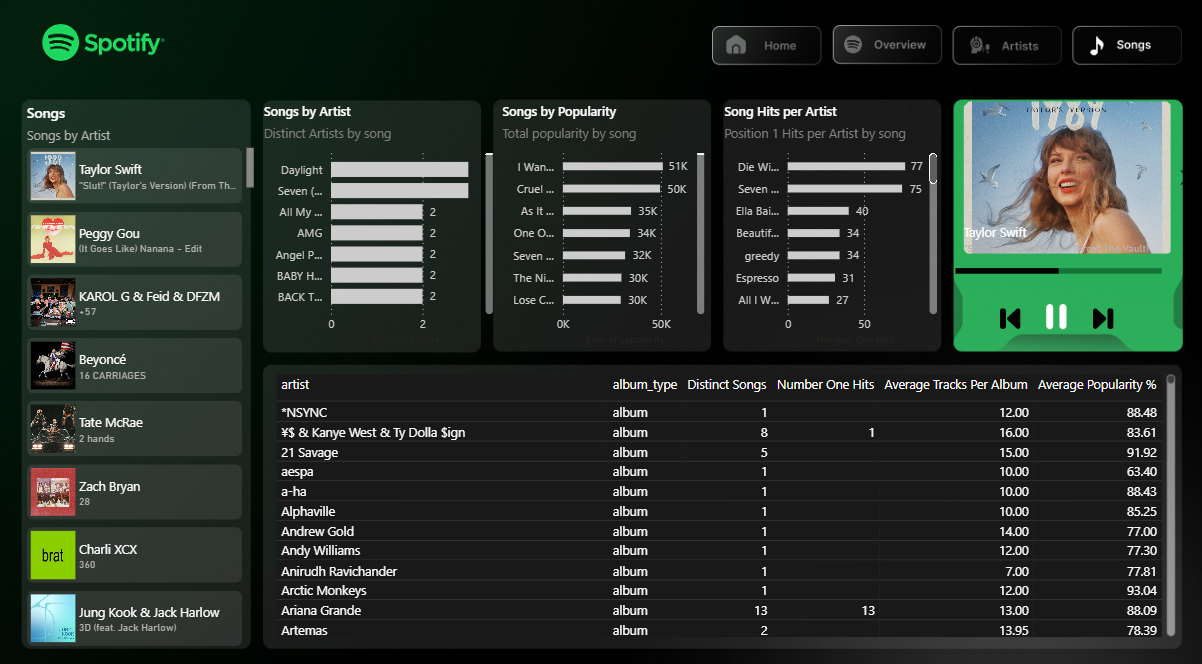

The dashboard page shown, as its layout file describes it:
{"tool":"powerbi","page":{"name":"Songs","canvas":[1280,720],"ordinal":3},"visuals":[{"type":"actionButton","box":[756.1,33.9,114.5,38.2],"z":0},{"type":"actionButton","box":[884.9,33.9,111.3,38.2],"z":1000},{"type":"actionButton","box":[1013.7,33.9,106.6,38.2],"z":2000},{"type":"actionButton","box":[1137.8,33.9,117.7,38.2],"z":3000},{"type":"advancedSlicerVisual","title":"Songs ","fields":{"Values":["Top-50-world.song"]},"box":[994.1,101.8,279.9,181.3],"z":4000},{"type":"hundredPercentStackedBarChart","fields":{"Y":["Avg(Top-50-world.popularity)","_Measures.Average Popularity"]},"box":[1010.2,257.7,229,60.4],"z":5000},{"type":"image","box":[1151.8,324,40,35],"z":6000},{"type":"image","box":[1053.2,324,40,35],"z":7000},{"type":"image","box":[1102.5,322,40,37],"z":8000},{"type":"shape","box":[1000.5,84.3,273.6,311.8],"z":9000},{"type":"advancedSlicerVisual","title":"Songs ","fields":{"Values":["Top-50-world.song"]},"box":[25.4,112.9,251.3,582.2],"z":13000},{"type":"tableEx","fields":{"Values":["Top-50-world.artist","Top-50-world.album_type","_Measures.Distinct Songs","_Measures.Number One Hits","_Measures.Average Tracks Per Album","_Measures.Average Popularity %"]},"box":[289.5,396.1,963.9,287.9],"z":14000},{"type":"clusteredBarChart","title":"Songs by Artist","fields":{"Category":["Top-50-world.song"],"Y":["_Measures.Distinct Artists"]},"box":[276.8,112.9,252.9,262.5],"z":15000},{"type":"clusteredBarChart","title":"Songs by Popularity","fields":{"Category":["Top-50-world.song"],"Y":["Sum(Top-50-world.popularity)"]},"box":[529.7,112.9,224.3,262.5],"z":16000},{"type":"clusteredBarChart","title":"Song Hits per Artist","fields":{"Category":["Top-50-world.song"],"Y":["_Measures.Number One Hits"]},"box":[765.1,112.9,235.4,262.5],"z":17000}]}

Visuals, with their boxes in screenshot pixels (x1, y1, x2, y2), scaled from the page's 1280x720 canvas onto the 1202x664 screenshot:
actionButton: {"left": 710, "top": 31, "right": 818, "bottom": 66}
actionButton: {"left": 831, "top": 31, "right": 935, "bottom": 66}
actionButton: {"left": 952, "top": 31, "right": 1052, "bottom": 66}
actionButton: {"left": 1068, "top": 31, "right": 1179, "bottom": 66}
"Songs " advancedSlicerVisual: {"left": 934, "top": 94, "right": 1196, "bottom": 261}
hundredPercentStackedBarChart - Avg(Top-50-world.popularity) x _Measures.Average Popularity: {"left": 949, "top": 238, "right": 1164, "bottom": 293}
image: {"left": 1082, "top": 299, "right": 1119, "bottom": 331}
image: {"left": 989, "top": 299, "right": 1027, "bottom": 331}
image: {"left": 1035, "top": 297, "right": 1073, "bottom": 331}
shape: {"left": 940, "top": 78, "right": 1196, "bottom": 365}
"Songs " advancedSlicerVisual: {"left": 24, "top": 104, "right": 260, "bottom": 641}
tableEx - Top-50-world.artist x Top-50-world.album_type: {"left": 272, "top": 365, "right": 1177, "bottom": 631}
"Songs by Artist" clusteredBarChart: {"left": 260, "top": 104, "right": 497, "bottom": 346}
"Songs by Popularity" clusteredBarChart: {"left": 497, "top": 104, "right": 708, "bottom": 346}
"Song Hits per Artist" clusteredBarChart: {"left": 718, "top": 104, "right": 940, "bottom": 346}
